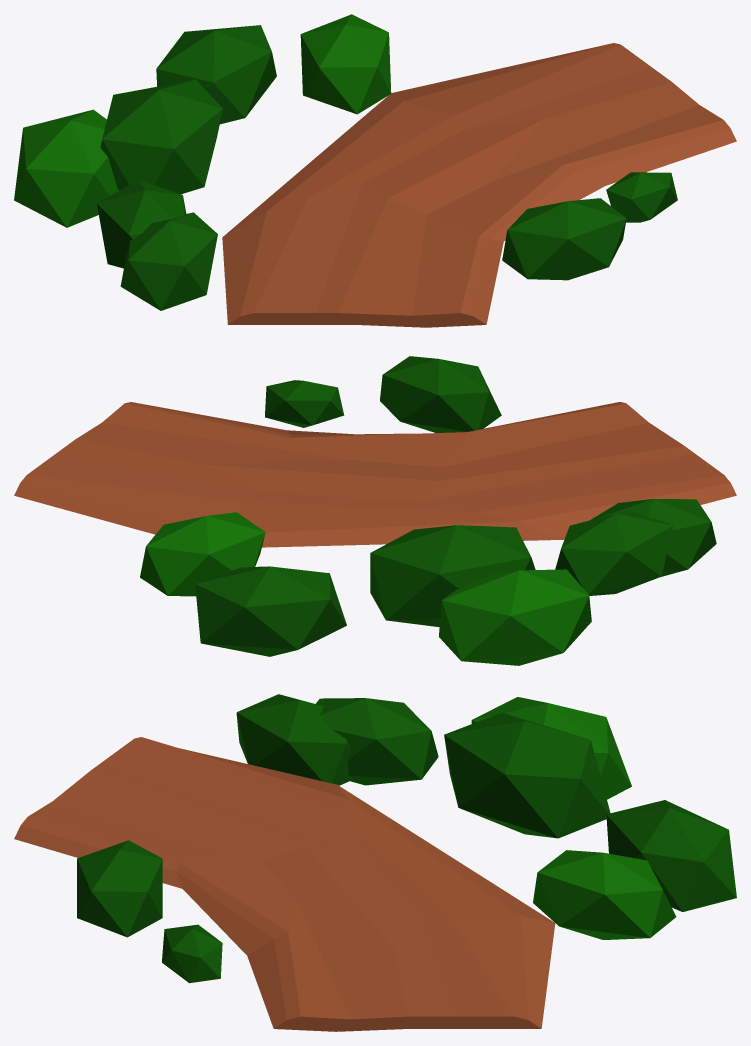
Rendered from street3_02_5.fbx.
The picture shows the model from 3 angles, top to bottom: view 1: azimuth 30°, elevation 25°; view 2: azimuth 150°, elevation 25°; view 3: azimuth 270°, elevation 25°; orthographic projection. The views are drawn at different scales.
Parts seen in each view (by area): view 1: readRoad02.004, bush.013, bush.017, bush.020, bush.015, bush.014, bush.018, bush.016, bush.019; view 2: readRoad02.004, bush.017, bush.015, bush.013, bush.016, bush.014, bush.020, bush.018, bush.019; view 3: readRoad02.004, bush.013, bush.014, bush.015, bush.016, bush.018, bush.020, bush.017, bush.019.
Part boxes in pixels (x1,y1,x2,y2): readRoad02.004: (222,43,736,327); bush.013: (100,79,222,194); bush.017: (14,109,118,227); bush.020: (502,198,626,280); bush.015: (156,25,276,124); bush.014: (300,14,391,114); bush.018: (120,212,217,310); bush.016: (96,180,186,268); bush.019: (606,172,677,222); readRoad02.004: (14,402,736,547); bush.017: (439,569,591,665); bush.015: (195,566,346,656); bush.013: (370,525,535,627); bush.016: (555,509,672,595); bush.014: (140,512,265,596); bush.020: (380,356,501,432); bush.018: (590,498,716,576); bush.019: (265,380,344,427); readRoad02.004: (14,737,555,1031); bush.013: (444,712,610,838); bush.014: (533,850,676,939); bush.015: (606,800,736,911); bush.016: (316,698,438,785); bush.018: (236,694,355,785); bush.020: (77,840,162,937); bush.017: (471,697,631,799); bush.019: (162,924,222,983).
Bounding box in the file's own units: 94.79 × 18.04 × 94.52.
